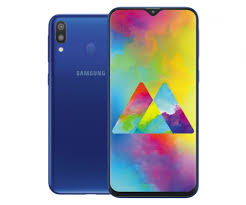samsung: (107, 5, 197, 195), (47, 14, 108, 199)
